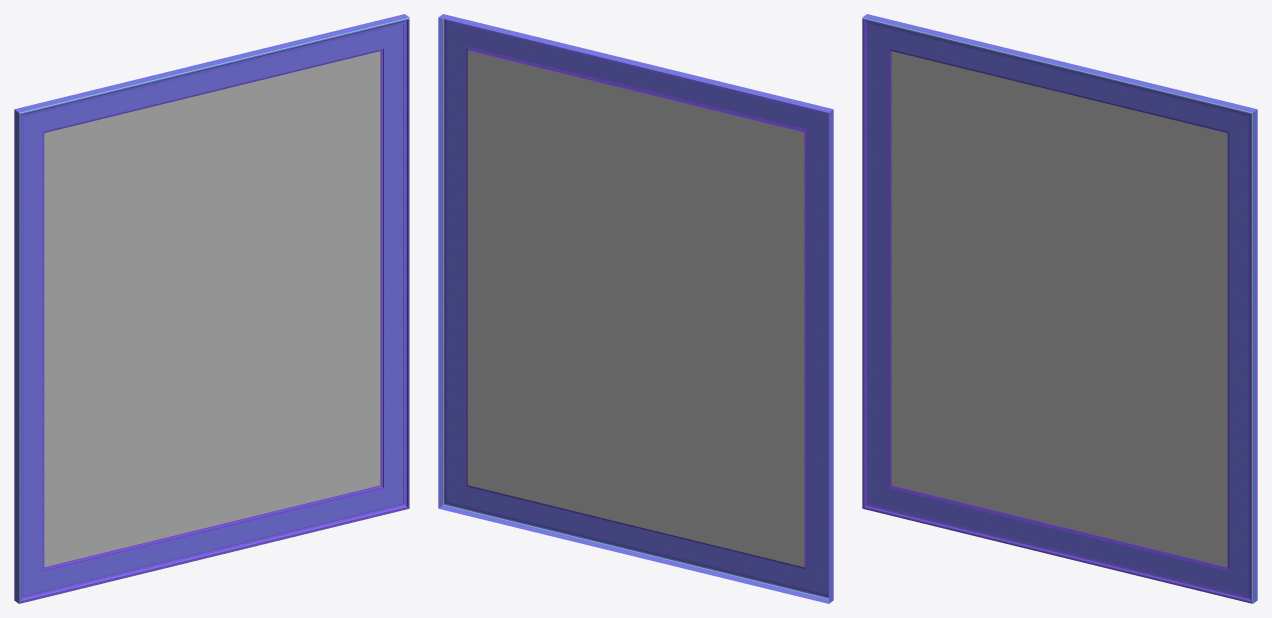
3 views of the same model, side by side, from view 1: azimuth 30°, elevation 25°; view 2: azimuth 150°, elevation 25°; view 3: azimuth 330°, elevation 25° (orthographic).
Visible parts, largest first — view 1: _09_13, _09_13_frame; view 2: _09_13, _09_13_frame; view 3: _09_13, _09_13_frame.
Boxes of the visible parts, left/top/right/bottom form: _09_13: left=44, top=51, right=380, bottom=567; _09_13_frame: left=14, top=14, right=409, bottom=603; _09_13: left=467, top=50, right=804, bottom=567; _09_13_frame: left=438, top=14, right=833, bottom=603; _09_13: left=891, top=51, right=1227, bottom=567; _09_13_frame: left=862, top=14, right=1257, bottom=603.
Bounding box in the file's own units: 174 × 209 × 4.02.
